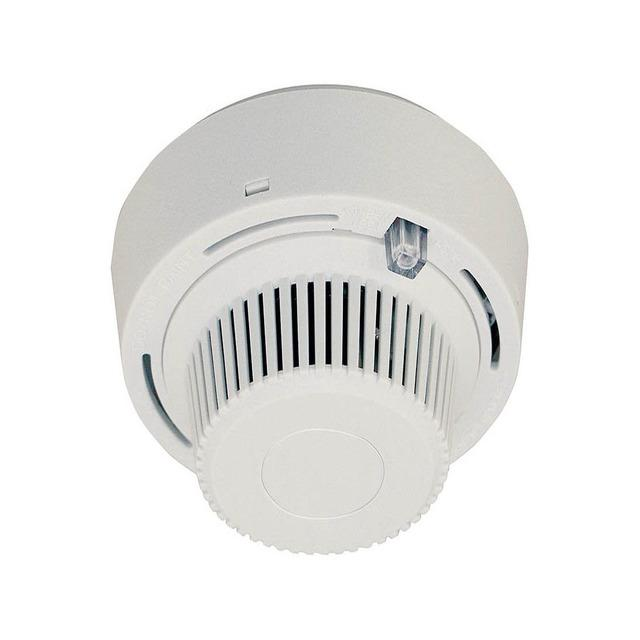Smoke-Detector: (92, 82, 540, 562)
